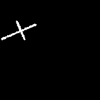single_crochet: (2, 21, 35, 39)
